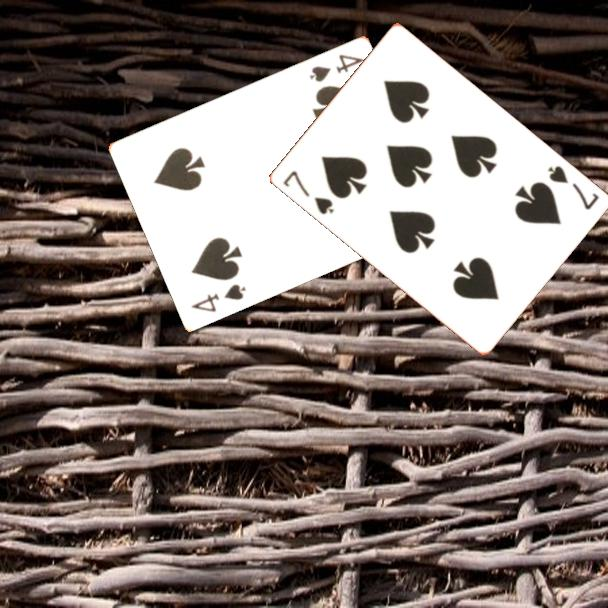s04: (306, 50, 367, 85), (188, 280, 249, 315)
s07: (279, 167, 337, 218), (544, 162, 602, 213)
